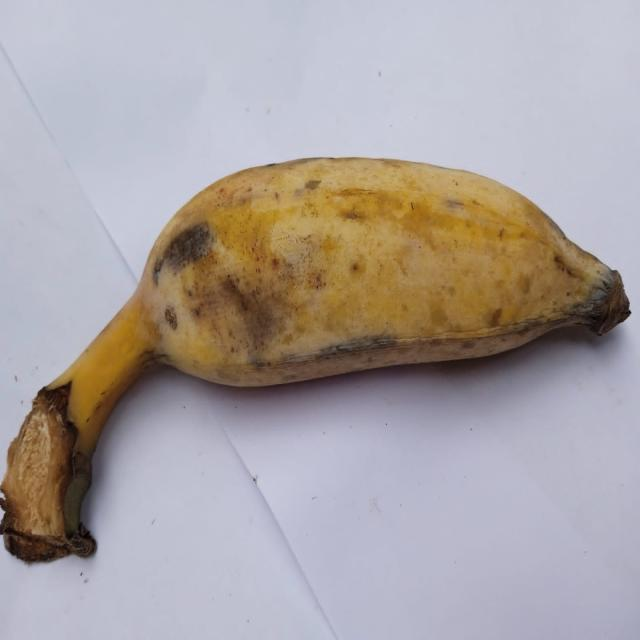banana: (2, 159, 629, 561)
